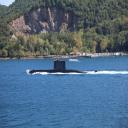submarine: (30, 53, 98, 75)
